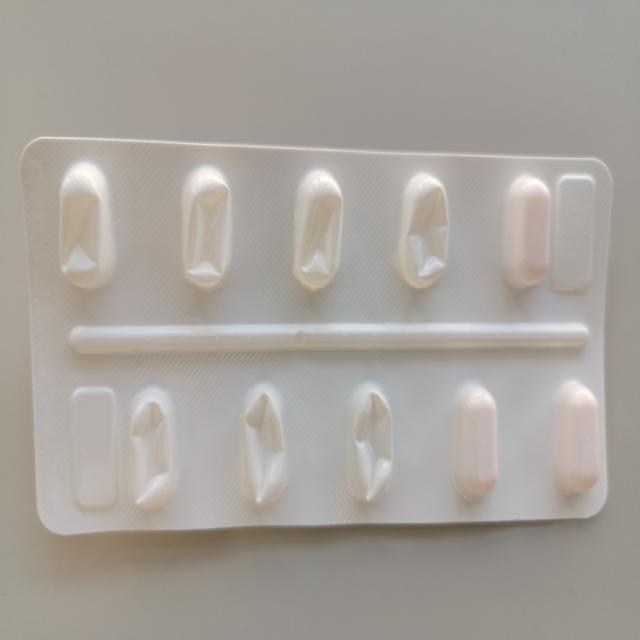Empty: (50, 154, 120, 298), (172, 160, 238, 298), (120, 376, 178, 520), (230, 373, 290, 512), (392, 163, 454, 294), (287, 163, 346, 300), (340, 376, 394, 511)
Pill: (444, 380, 506, 508), (547, 376, 606, 499), (499, 168, 555, 297)
